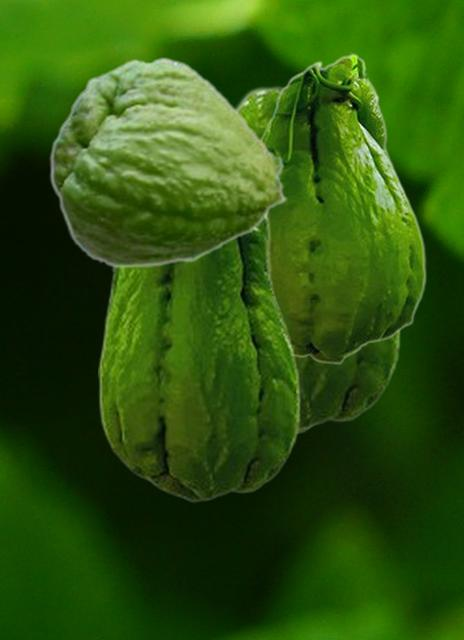sayote: (98, 210, 300, 502), (235, 81, 400, 431), (260, 53, 426, 364), (49, 56, 288, 268)
